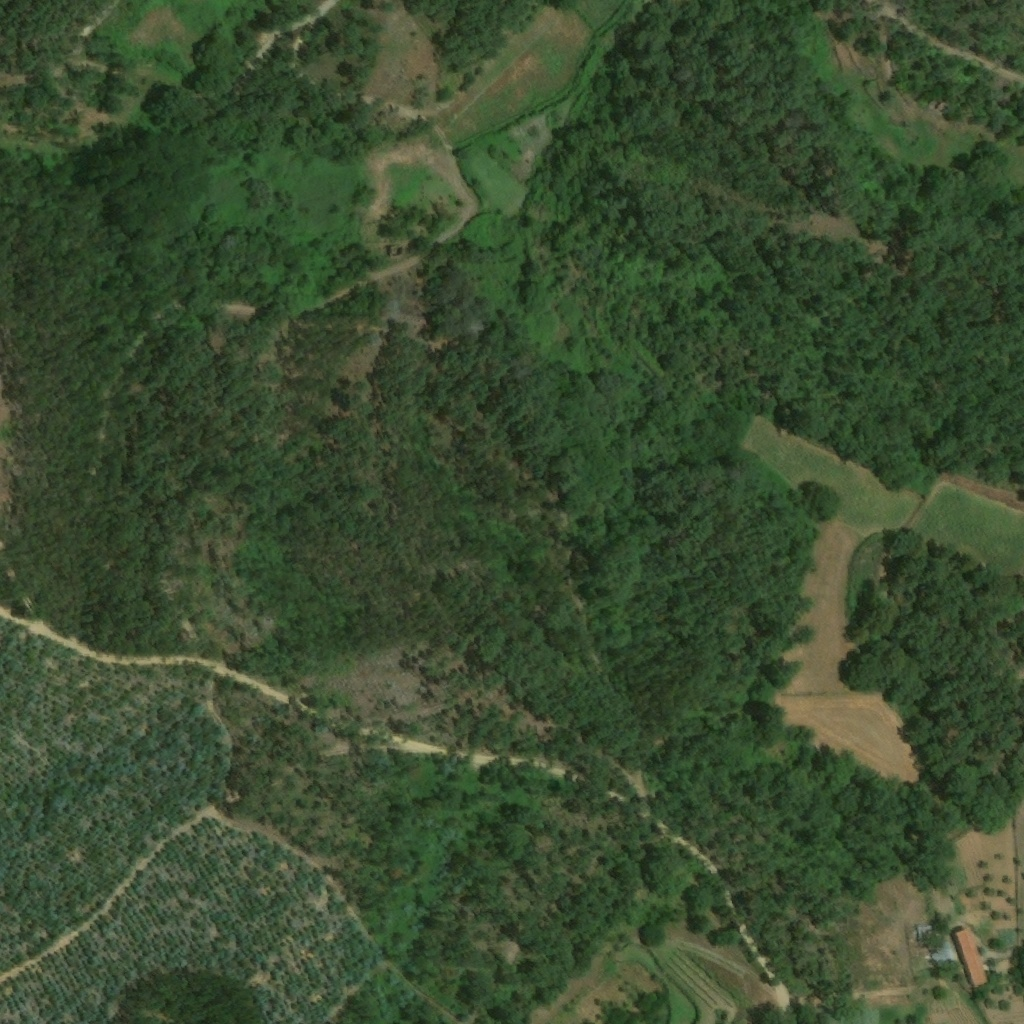0 no-damage: (951, 928, 990, 989)
